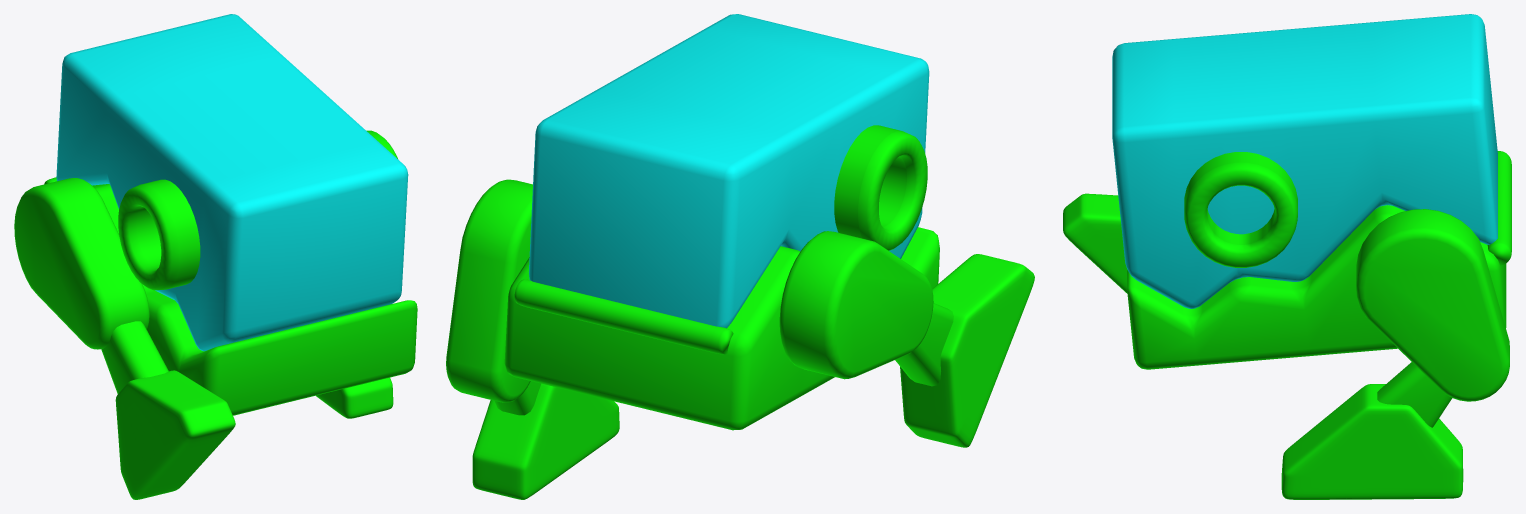
The picture shows the model from 3 angles, left to right: view 1: azimuth 30°, elevation 25°; view 2: azimuth 150°, elevation 25°; view 3: azimuth 270°, elevation 25°; orthographic projection. The views are drawn at different scales.
Parts seen in each view (by area): view 1: Top_Jaw, Lower_Jaw, Thighs_Left, Feet_Left, Eyes, Shin_Left, Feet_Right; view 2: Top_Jaw, Lower_Jaw, Thighs_Left, Feet_Left, Thighs_Right, Feet_Right, Eyes, Hinge, Shin_Left, Shin_Right; view 3: Top_Jaw, Lower_Jaw, Thighs_Right, Feet_Right, Eyes, Feet_Left, Shin_Right, Hinge.
Boxes of the visible parts, x1,y1,x2,y2 form: Top_Jaw: [56, 14, 408, 351]; Lower_Jaw: [92, 184, 417, 415]; Thighs_Left: [14, 178, 149, 349]; Feet_Left: [115, 370, 235, 499]; Eyes: [118, 130, 397, 290]; Shin_Left: [101, 321, 168, 393]; Feet_Right: [316, 377, 393, 418]; Top_Jaw: [529, 14, 929, 328]; Lower_Jaw: [504, 227, 939, 430]; Thighs_Left: [779, 231, 933, 379]; Feet_Left: [900, 254, 1034, 447]; Thighs_Right: [446, 179, 532, 402]; Feet_Right: [472, 383, 619, 499]; Eyes: [834, 125, 927, 250]; Hinge: [514, 279, 733, 354]; Shin_Left: [895, 303, 953, 386]; Shin_Right: [494, 381, 540, 415]; Top_Jaw: [1112, 14, 1497, 308]; Lower_Jaw: [1127, 205, 1506, 369]; Thighs_Right: [1356, 209, 1509, 401]; Feet_Right: [1281, 384, 1463, 499]; Eyes: [1184, 152, 1297, 267]; Feet_Left: [1063, 193, 1127, 293]; Shin_Right: [1377, 362, 1452, 427]; Hinge: [1487, 151, 1511, 265].
Size of the model in its own units: 2.03 by 2.16 by 2.4.
